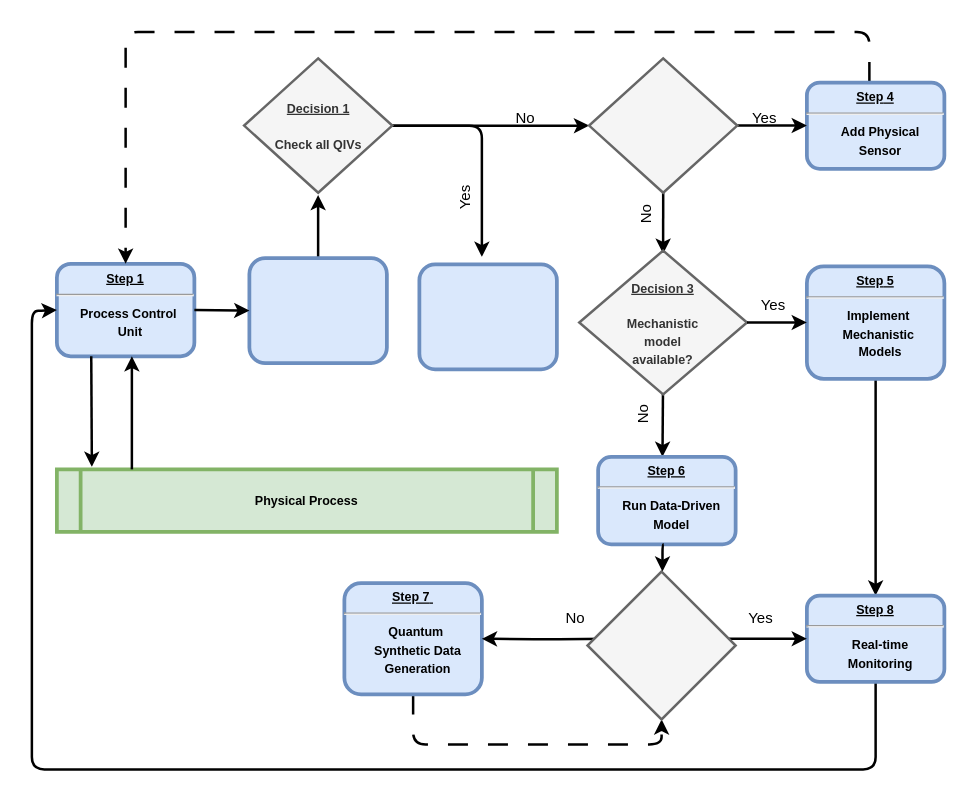
This 968x801 diagram has some shape labels left out. Here are the shapes that lost their labels. From the top down, the centre of each, then its label:
At [662,124]: "Decision 2 Is additional physical sensor feasible?".
At [317,310]: "Step 2 Monitoring Insights".
At [487,316]: "Step 3 Exit Monitoring loop".
At [661,645]: "Decision 4 Models meet Accuracy Threshold?".
